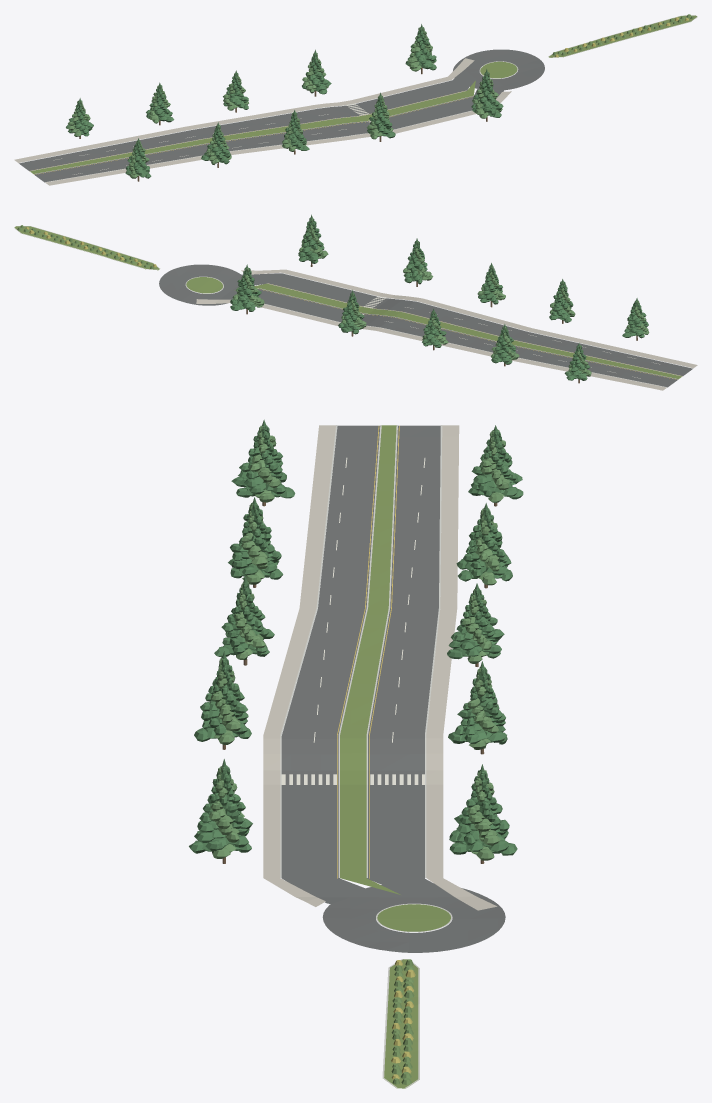
The picture shows the model from 3 angles, top to bottom: view 1: azimuth 30°, elevation 25°; view 2: azimuth 150°, elevation 25°; view 3: azimuth 270°, elevation 25°; orthographic projection. The views are drawn at different scales.
Parts seen in each view (by area): view 1: N1 cedar batch N1 cedar foliage, N1 cedar batch N1 cedar foliage light, N1 north carriageway 00, N1 south carriageway 00, N1 north carriageway 01, N1 south carriageway 01, N1 continuous sidewalk 00 1, N1 east approach planted median, N1 central planted median 00, N1 south carriageway 03, N1 north carriageway 04, N1 north carriageway 02 (+10 smaller); view 2: N1 cedar batch N1 cedar foliage, N1 cedar batch N1 cedar foliage light, N1 south carriageway 00, N1 north carriageway 00, N1 south carriageway 01, N1 north carriageway 01, N1 east approach planted median, N1 continuous sidewalk 00 -1, N1 central planted median 00, N1 north carriageway 03, N1 south carriageway 04, N1 south carriageway 02 (+10 smaller); view 3: N1 cedar batch N1 cedar foliage, N1 cedar batch N1 cedar foliage light, N1 north carriageway 00, N1 south carriageway 00, N1 north carriageway 01, N1 south carriageway 01, N1 central planted median 00, N1 continuous sidewalk 00 -1, N1 continuous sidewalk 00 1, N1 central planted median 01, N1 south carriageway 02, N1 north carriageway 02 (+15 smaller).
Part boxes in pixels (left/top/right/bottom): N1 cedar batch N1 cedar foliage: left=66, top=24, right=503, bottom=178; N1 cedar batch N1 cedar foliage light: left=67, top=27, right=502, bottom=178; N1 north carriageway 00: left=19, top=130, right=202, bottom=171; N1 south carriageway 00: left=34, top=143, right=210, bottom=182; N1 north carriageway 01: left=191, top=109, right=327, bottom=138; N1 south carriageway 01: left=209, top=125, right=348, bottom=151; N1 continuous sidewalk 00 1: left=14, top=126, right=190, bottom=162; N1 east approach planted median: left=549, top=15, right=696, bottom=57; N1 central planted median 00: left=30, top=139, right=208, bottom=173; N1 south carriageway 03: left=389, top=107, right=443, bottom=128; N1 north carriageway 04: left=409, top=80, right=465, bottom=100; N1 north carriageway 02: left=314, top=102, right=374, bottom=119; N1 cedar batch N1 cedar foliage: left=230, top=214, right=648, bottom=380; N1 cedar batch N1 cedar foliage light: left=232, top=218, right=649, bottom=376; N1 south carriageway 00: left=516, top=332, right=692, bottom=376; N1 north carriageway 00: left=515, top=346, right=678, bottom=387; N1 south carriageway 01: left=405, top=302, right=527, bottom=340; N1 north carriageway 01: left=383, top=317, right=497, bottom=352; N1 east approach planted median: left=14, top=226, right=159, bottom=270; N1 continuous sidewalk 00 -1: left=528, top=328, right=697, bottom=367; N1 central planted median 00: left=511, top=340, right=681, bottom=378; N1 north carriageway 03: left=289, top=299, right=343, bottom=320; N1 south carriageway 04: left=267, top=273, right=324, bottom=293; N1 south carriageway 02: left=358, top=295, right=418, bottom=311; N1 cedar batch N1 cedar foliage: left=189, top=419, right=523, bottom=855; N1 cedar batch N1 cedar foliage light: left=203, top=425, right=509, bottom=860; N1 north carriageway 00: left=390, top=425, right=440, bottom=608; N1 south carriageway 00: left=318, top=425, right=380, bottom=608; N1 north carriageway 01: left=368, top=608, right=438, bottom=735; N1 south carriageway 01: left=282, top=608, right=366, bottom=735; N1 central planted median 00: left=368, top=425, right=396, bottom=607; N1 continuous sidewalk 00 -1: left=299, top=425, right=335, bottom=608; N1 continuous sidewalk 00 1: left=440, top=425, right=459, bottom=607; N1 central planted median 01: left=340, top=608, right=388, bottom=734; N1 south carriageway 02: left=281, top=735, right=338, bottom=791; N1 north carriageway 02: left=368, top=735, right=424, bottom=791.
Size of the model in its own units: 207 by 17.47 by 45.38.
